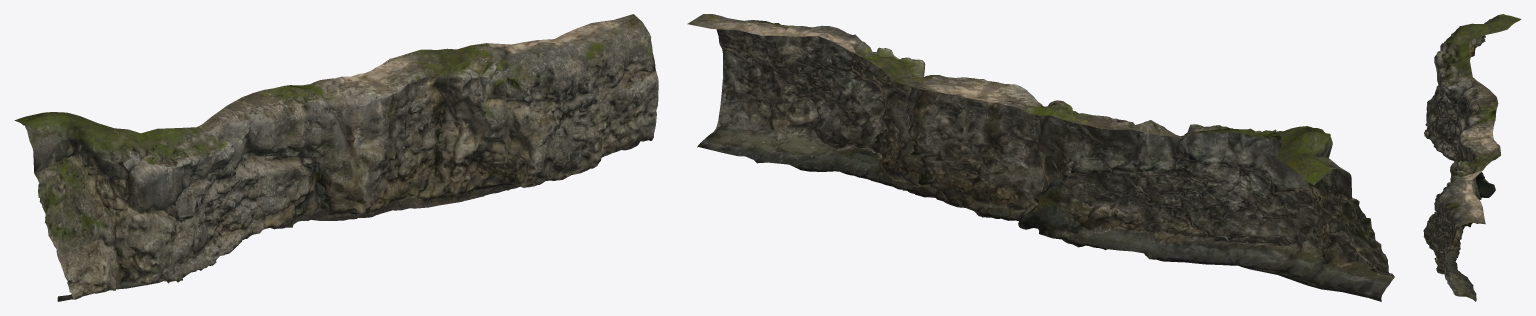
Rendered from coastal_cliff_02-lod.glb.
3 renders of one model, left to right at view 1: azimuth 30°, elevation 25°; view 2: azimuth 150°, elevation 25°; view 3: azimuth 270°, elevation 25°, orthographic. The views are drawn at different scales.
Visible parts, largest first — view 1: coastal_cliff_02_LOD0; view 2: coastal_cliff_02_LOD0; view 3: coastal_cliff_02_LOD0.
Boxes of the visible parts, left/top/right/bottom form: coastal_cliff_02_LOD0: left=14, top=14, right=658, bottom=301; coastal_cliff_02_LOD0: left=687, top=14, right=1394, bottom=301; coastal_cliff_02_LOD0: left=1423, top=14, right=1521, bottom=301.
Bounding box in the file's own units: 40.93 × 10.05 × 8.65.
1 material, 1 textured.
